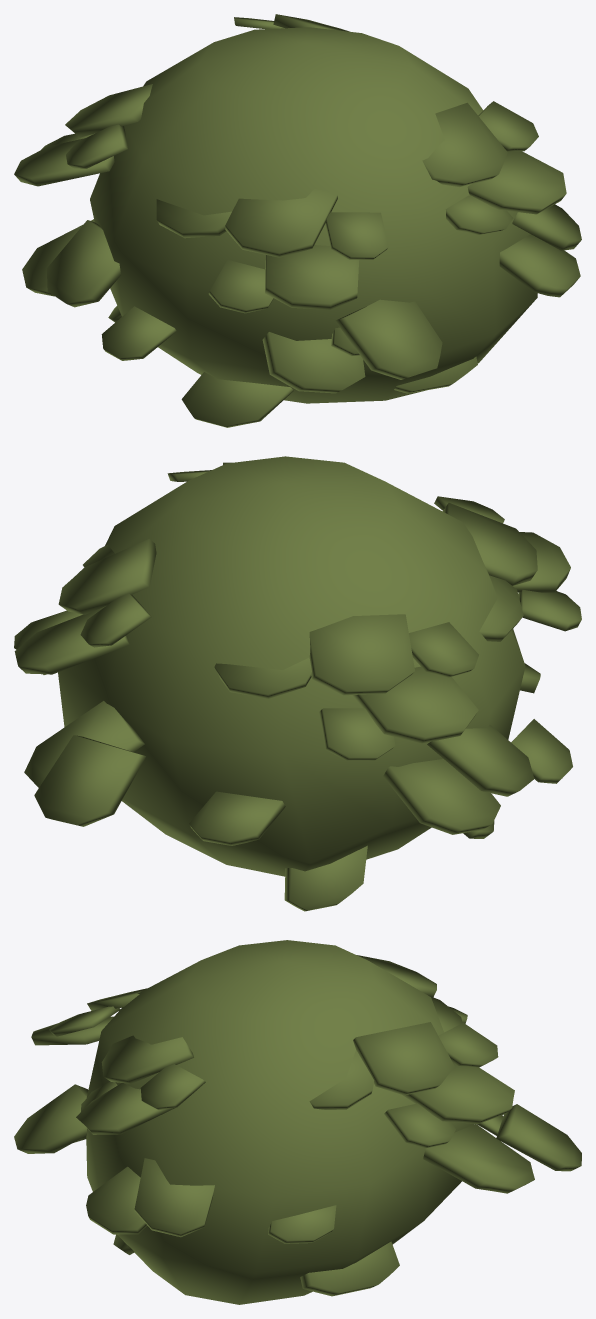
Rendered from Bush2.fbx.
3 renders of one model, top to bottom at view 1: azimuth 30°, elevation 25°; view 2: azimuth 150°, elevation 25°; view 3: azimuth 270°, elevation 25°, orthographic. The views are drawn at different scales.
Visible parts, largest first — view 1: Arbre.001; view 2: Arbre.001; view 3: Arbre.001.
Boxes of the visible parts, x1=… form: Arbre.001: x1=14, y1=14, x2=581, y2=427; Arbre.001: x1=14, y1=456, x2=581, y2=911; Arbre.001: x1=14, y1=940, x2=581, y2=1304.
Bounding box in the file's own units: 337 × 235 × 403.
